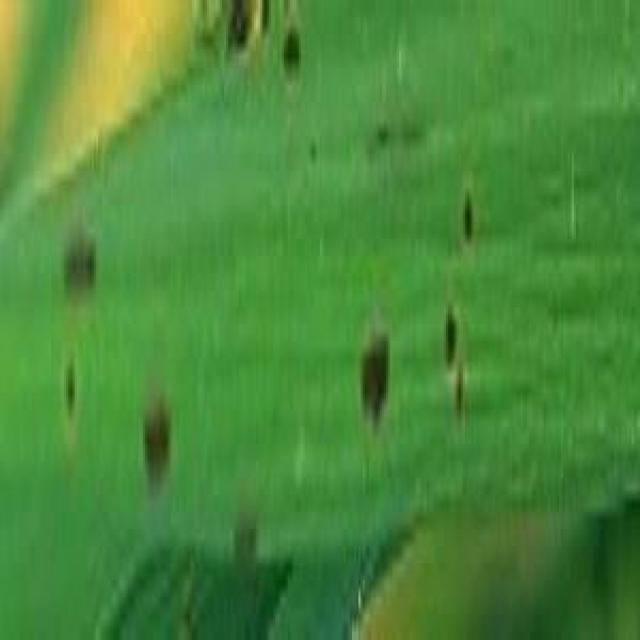brownspots: (130, 394, 186, 496), (352, 324, 397, 433), (49, 232, 115, 301), (44, 358, 88, 433), (273, 22, 316, 88), (454, 188, 482, 248), (440, 312, 468, 362)
